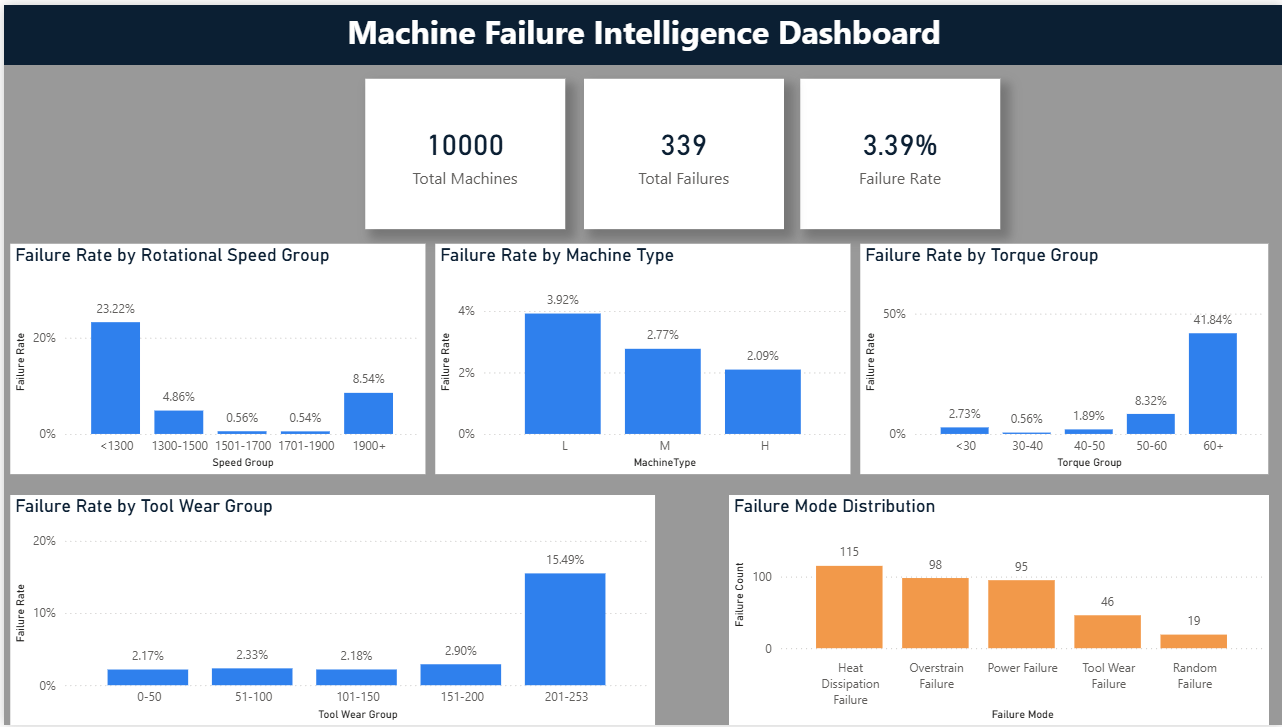

What the dashboard file says about the page in this screenshot:
{"tool":"powerbi","page":{"name":"Page 1","canvas":[1280,720],"ordinal":0},"visuals":[{"type":"card","fields":{"Values":["FactMachineReadings.Failure Rate"]},"box":[796.7,73.3,200,150],"z":1},{"type":"card","fields":{"Values":["FactMachineReadings.Total Machines"]},"box":[361.7,73.3,200,150],"z":2},{"type":"card","fields":{"Values":["FactMachineReadings.Total Failures"]},"box":[580,73.3,200,150],"z":3},{"type":"clusteredColumnChart","title":"Failure Rate by Machine Type","fields":{"Category":["FactMachineReadings.MachineType"],"Y":["FactMachineReadings.Failure Rate"]},"box":[431.7,238.3,415,230],"z":4},{"type":"clusteredColumnChart","title":"Failure Rate by Tool Wear Group","fields":{"Category":["FactMachineReadings.Tool Wear Group"],"Y":["FactMachineReadings.Failure Rate"]},"box":[6.7,490,645,230],"z":5},{"type":"clusteredColumnChart","fields":{"Category":["FactMachineReadings.Torque Group"],"Y":["FactMachineReadings.Failure Rate"]},"box":[856.7,238.3,408.3,230],"z":6},{"type":"clusteredColumnChart","title":"Failure Rate by Rotational Speed Group","fields":{"Category":["FactMachineReadings.Speed Group"],"Y":["FactMachineReadings.Failure Rate"]},"box":[6.7,238.3,415,230],"z":7},{"type":"clusteredColumnChart","title":"Failure Mode Distribution","fields":{"Y":["Failure Modes.Failure Mode Count"],"Category":["Failure Modes.Failure Mode"]},"box":[725,490,540,230],"z":8},{"type":"textbox","box":[0,0,1280,60],"z":9}]}

Visuals, with their boxes in screenshot pixels (x1, y1, x2, y2), scaled from the page's 1280x720 canvas onto the 1282x727 screenshot:
card - FactMachineReadings.Failure Rate: [x1=798, y1=74, x2=998, y2=225]
card - FactMachineReadings.Total Machines: [x1=362, y1=74, x2=563, y2=225]
card - FactMachineReadings.Total Failures: [x1=581, y1=74, x2=781, y2=225]
"Failure Rate by Machine Type" clusteredColumnChart: [x1=432, y1=241, x2=848, y2=473]
"Failure Rate by Tool Wear Group" clusteredColumnChart: [x1=7, y1=495, x2=653, y2=726]
clusteredColumnChart - FactMachineReadings.Torque Group x FactMachineReadings.Failure Rate: [x1=858, y1=241, x2=1267, y2=473]
"Failure Rate by Rotational Speed Group" clusteredColumnChart: [x1=7, y1=241, x2=422, y2=473]
"Failure Mode Distribution" clusteredColumnChart: [x1=726, y1=495, x2=1267, y2=726]
textbox: [x1=0, y1=0, x2=1281, y2=61]
